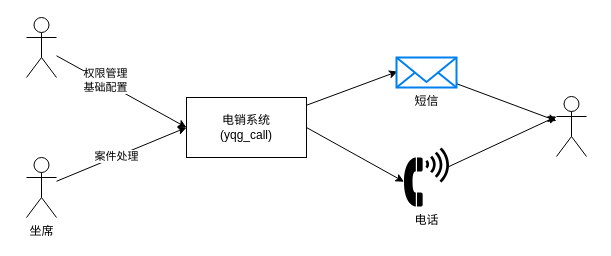
Some shapes in this 611 by 256 pixel diagram are drawn without their labels. The shapes that lost their labels are listed below. From the top down, each one's box as (x1, y1, x2, y2) in pixels, then its label:
(26, 16, 56, 78): 运营人员
(556, 96, 586, 156): C端用户
